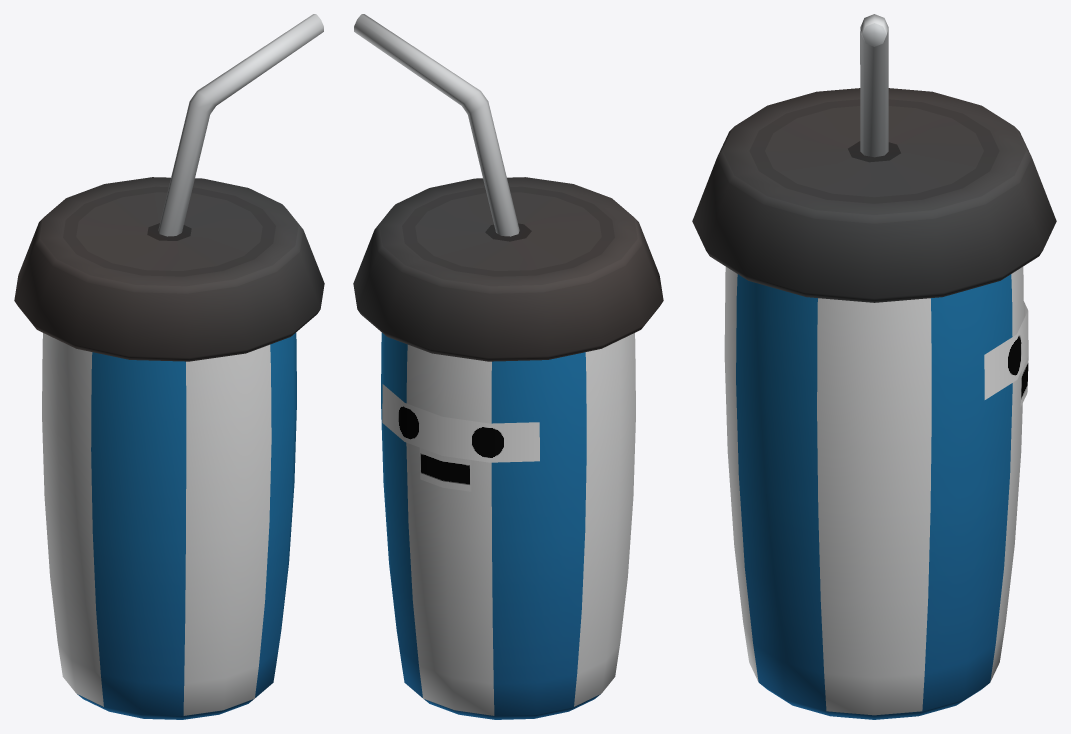
The model's file is soda_smile.fbx.
The picture shows the model from 3 angles, left to right: view 1: azimuth 30°, elevation 25°; view 2: azimuth 150°, elevation 25°; view 3: azimuth 270°, elevation 25°; orthographic projection. The views are drawn at different scales.
Visible parts, largest first — view 1: soda_smile; view 2: soda_smile; view 3: soda_smile.
Boxes of the visible parts, box(x1,y1,x2,y2) form: soda_smile: box(14, 14, 324, 719); soda_smile: box(353, 14, 663, 719); soda_smile: box(692, 14, 1056, 719).
Size of the model in its own units: 49.47 by 46.72 by 103.
